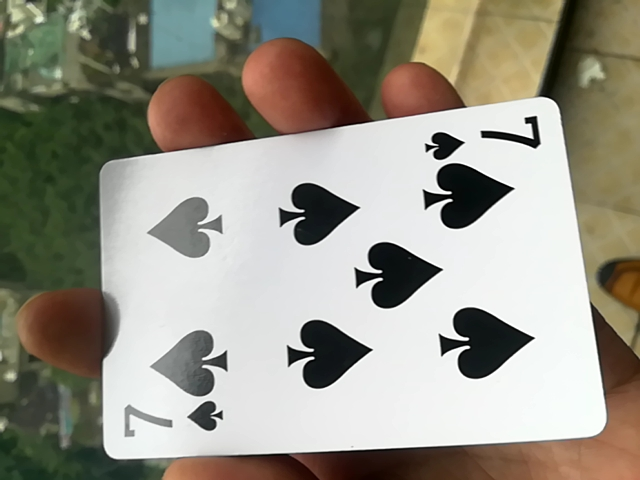ht 7: (88, 107, 605, 468)
